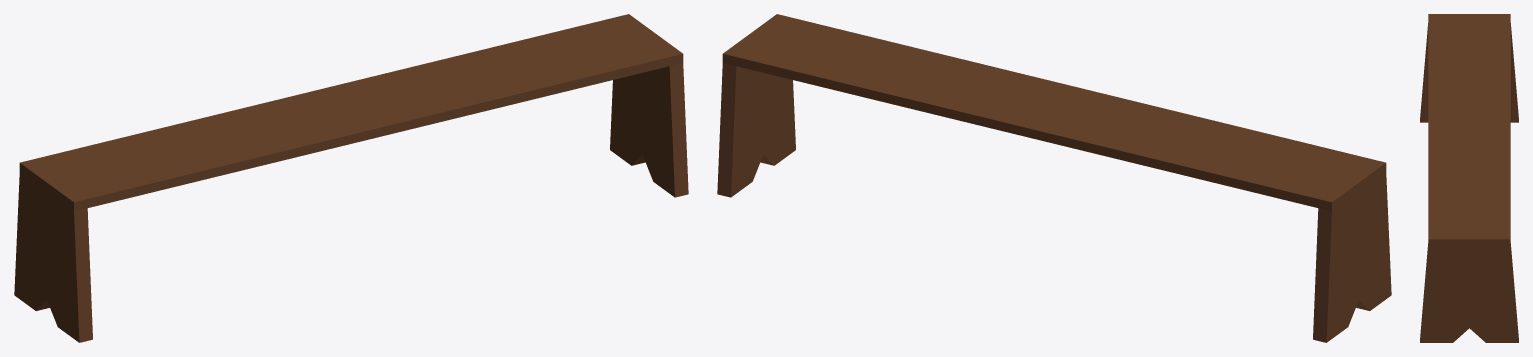
The model's file is bench.fbx.
3 renders of one model, left to right at view 1: azimuth 30°, elevation 25°; view 2: azimuth 150°, elevation 25°; view 3: azimuth 270°, elevation 25°, orthographic. The views are drawn at different scales.
Visible parts, largest first — view 1: Bench; view 2: Bench; view 3: Bench.
Boxes of the visible parts, box(x1,y1,x2,y2) form: Bench: box(14, 14, 688, 342); Bench: box(717, 14, 1391, 342); Bench: box(1420, 14, 1518, 342).
Size of the model in its own units: 183 by 33.86 by 39.21.
